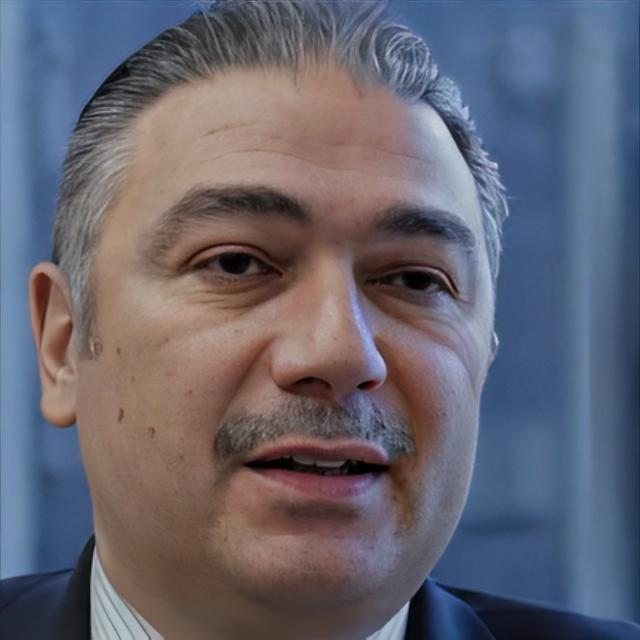surprise: (78, 72, 496, 618)
